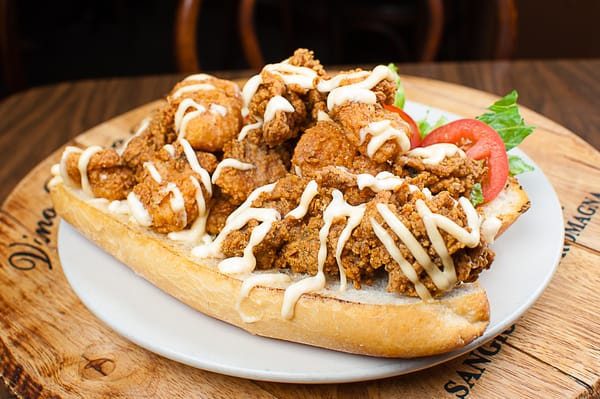curry: (41, 52, 600, 396)
pasta: (175, 1, 521, 71)
